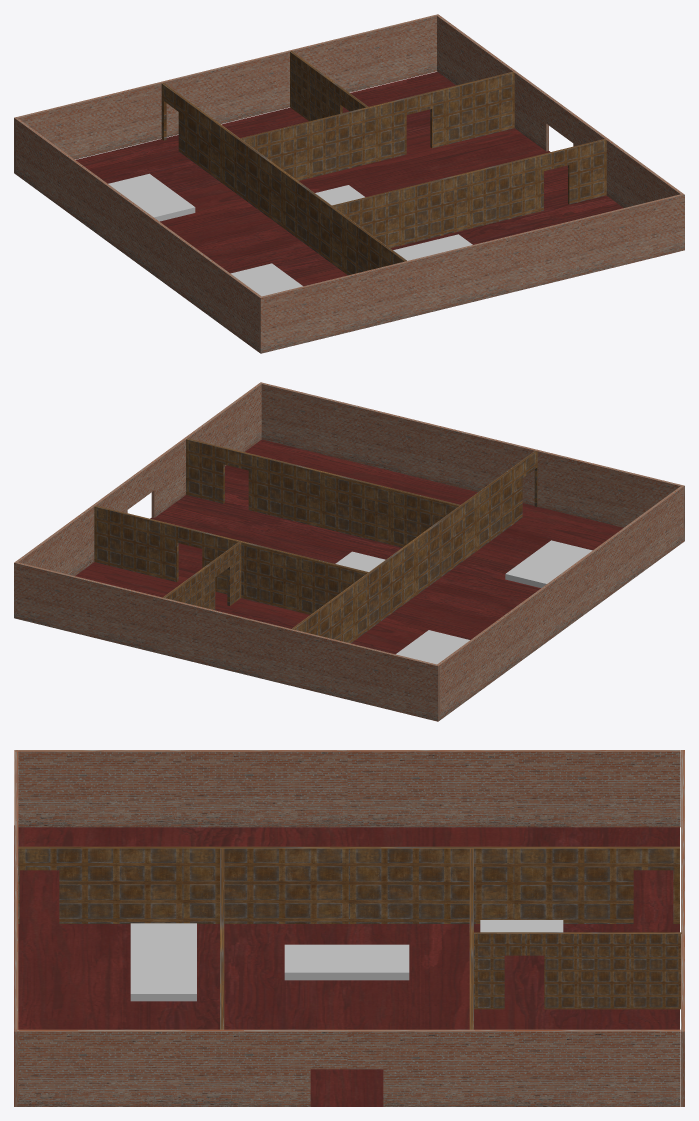
The model's file is museoNormal.fbx.
3 renders of one model, top to bottom at view 1: azimuth 30°, elevation 25°; view 2: azimuth 150°, elevation 25°; view 3: azimuth 270°, elevation 25°, orthographic. The views are drawn at different scales.
Parts seen in each view (by area): view 1: suelo.002, pared_1.007, pared_1.006, pared_1.005, pared_1.008, pared_1.001, pared_1.003, pared_1.004, pared_1.002, Repisa1.003, Repisa1.002, Repisa1.001 (+1 smaller); view 2: suelo.002, pared_1.006, pared_1.007, pared_1.005, pared_1.001, pared_1.003, pared_1.008, pared_1.004, pared_1.002, Repisa1.002, Repisa1.003, Repisa1; view 3: suelo.002, pared_1.005, pared_1.004, pared_1.003, pared_1.002, Repisa1.001, Repisa1, pared_1.007, pared_1.006, Repisa1.004, pared_1.001, pared_1.008.
Part boxes in pixels (x1,y1,x2,y2): suelo.002: (76, 71, 623, 286); pared_1.007: (259, 194, 684, 353); pared_1.006: (14, 14, 439, 173); pared_1.005: (15, 118, 262, 352); pared_1.008: (240, 71, 514, 180); pared_1.001: (332, 139, 606, 248); pared_1.003: (161, 83, 406, 275); pared_1.004: (437, 15, 684, 207); pared_1.002: (290, 51, 368, 121); Repisa1.003: (108, 173, 195, 221); Repisa1.002: (230, 263, 302, 296); Repisa1.001: (393, 234, 472, 260); suelo.002: (75, 439, 623, 654); pared_1.006: (14, 561, 439, 721); pared_1.007: (260, 382, 684, 541); pared_1.005: (437, 485, 683, 720); pared_1.001: (186, 438, 459, 547); pared_1.003: (292, 450, 537, 643); pared_1.008: (94, 505, 368, 614); pared_1.004: (16, 382, 262, 575); pared_1.002: (162, 542, 241, 610); Repisa1.002: (505, 540, 592, 587); Repisa1.003: (396, 630, 469, 664); Repisa1: (335, 551, 385, 571); suelo.002: (14, 825, 679, 1106); pared_1.005: (14, 750, 680, 827); pared_1.004: (14, 1029, 680, 1106); pared_1.003: (18, 846, 679, 923); pared_1.002: (474, 932, 681, 1009); Repisa1.001: (130, 923, 196, 1001); Repisa1: (284, 944, 409, 980); pared_1.007: (14, 750, 18, 1106); pared_1.006: (681, 750, 684, 1106); Repisa1.004: (480, 920, 563, 932); pared_1.001: (220, 848, 224, 1029); pared_1.008: (469, 848, 473, 1029).
Size of the model in its own units: 8000 by 1000 by 8060.
